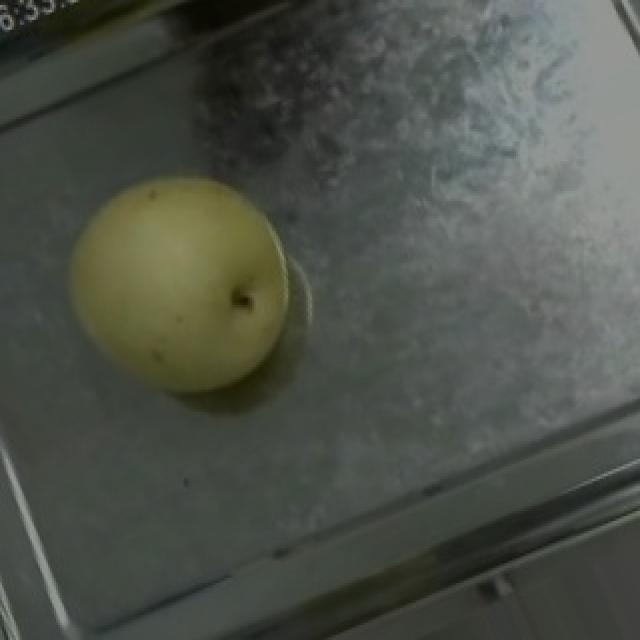Fruit: (22, 129, 336, 437)
